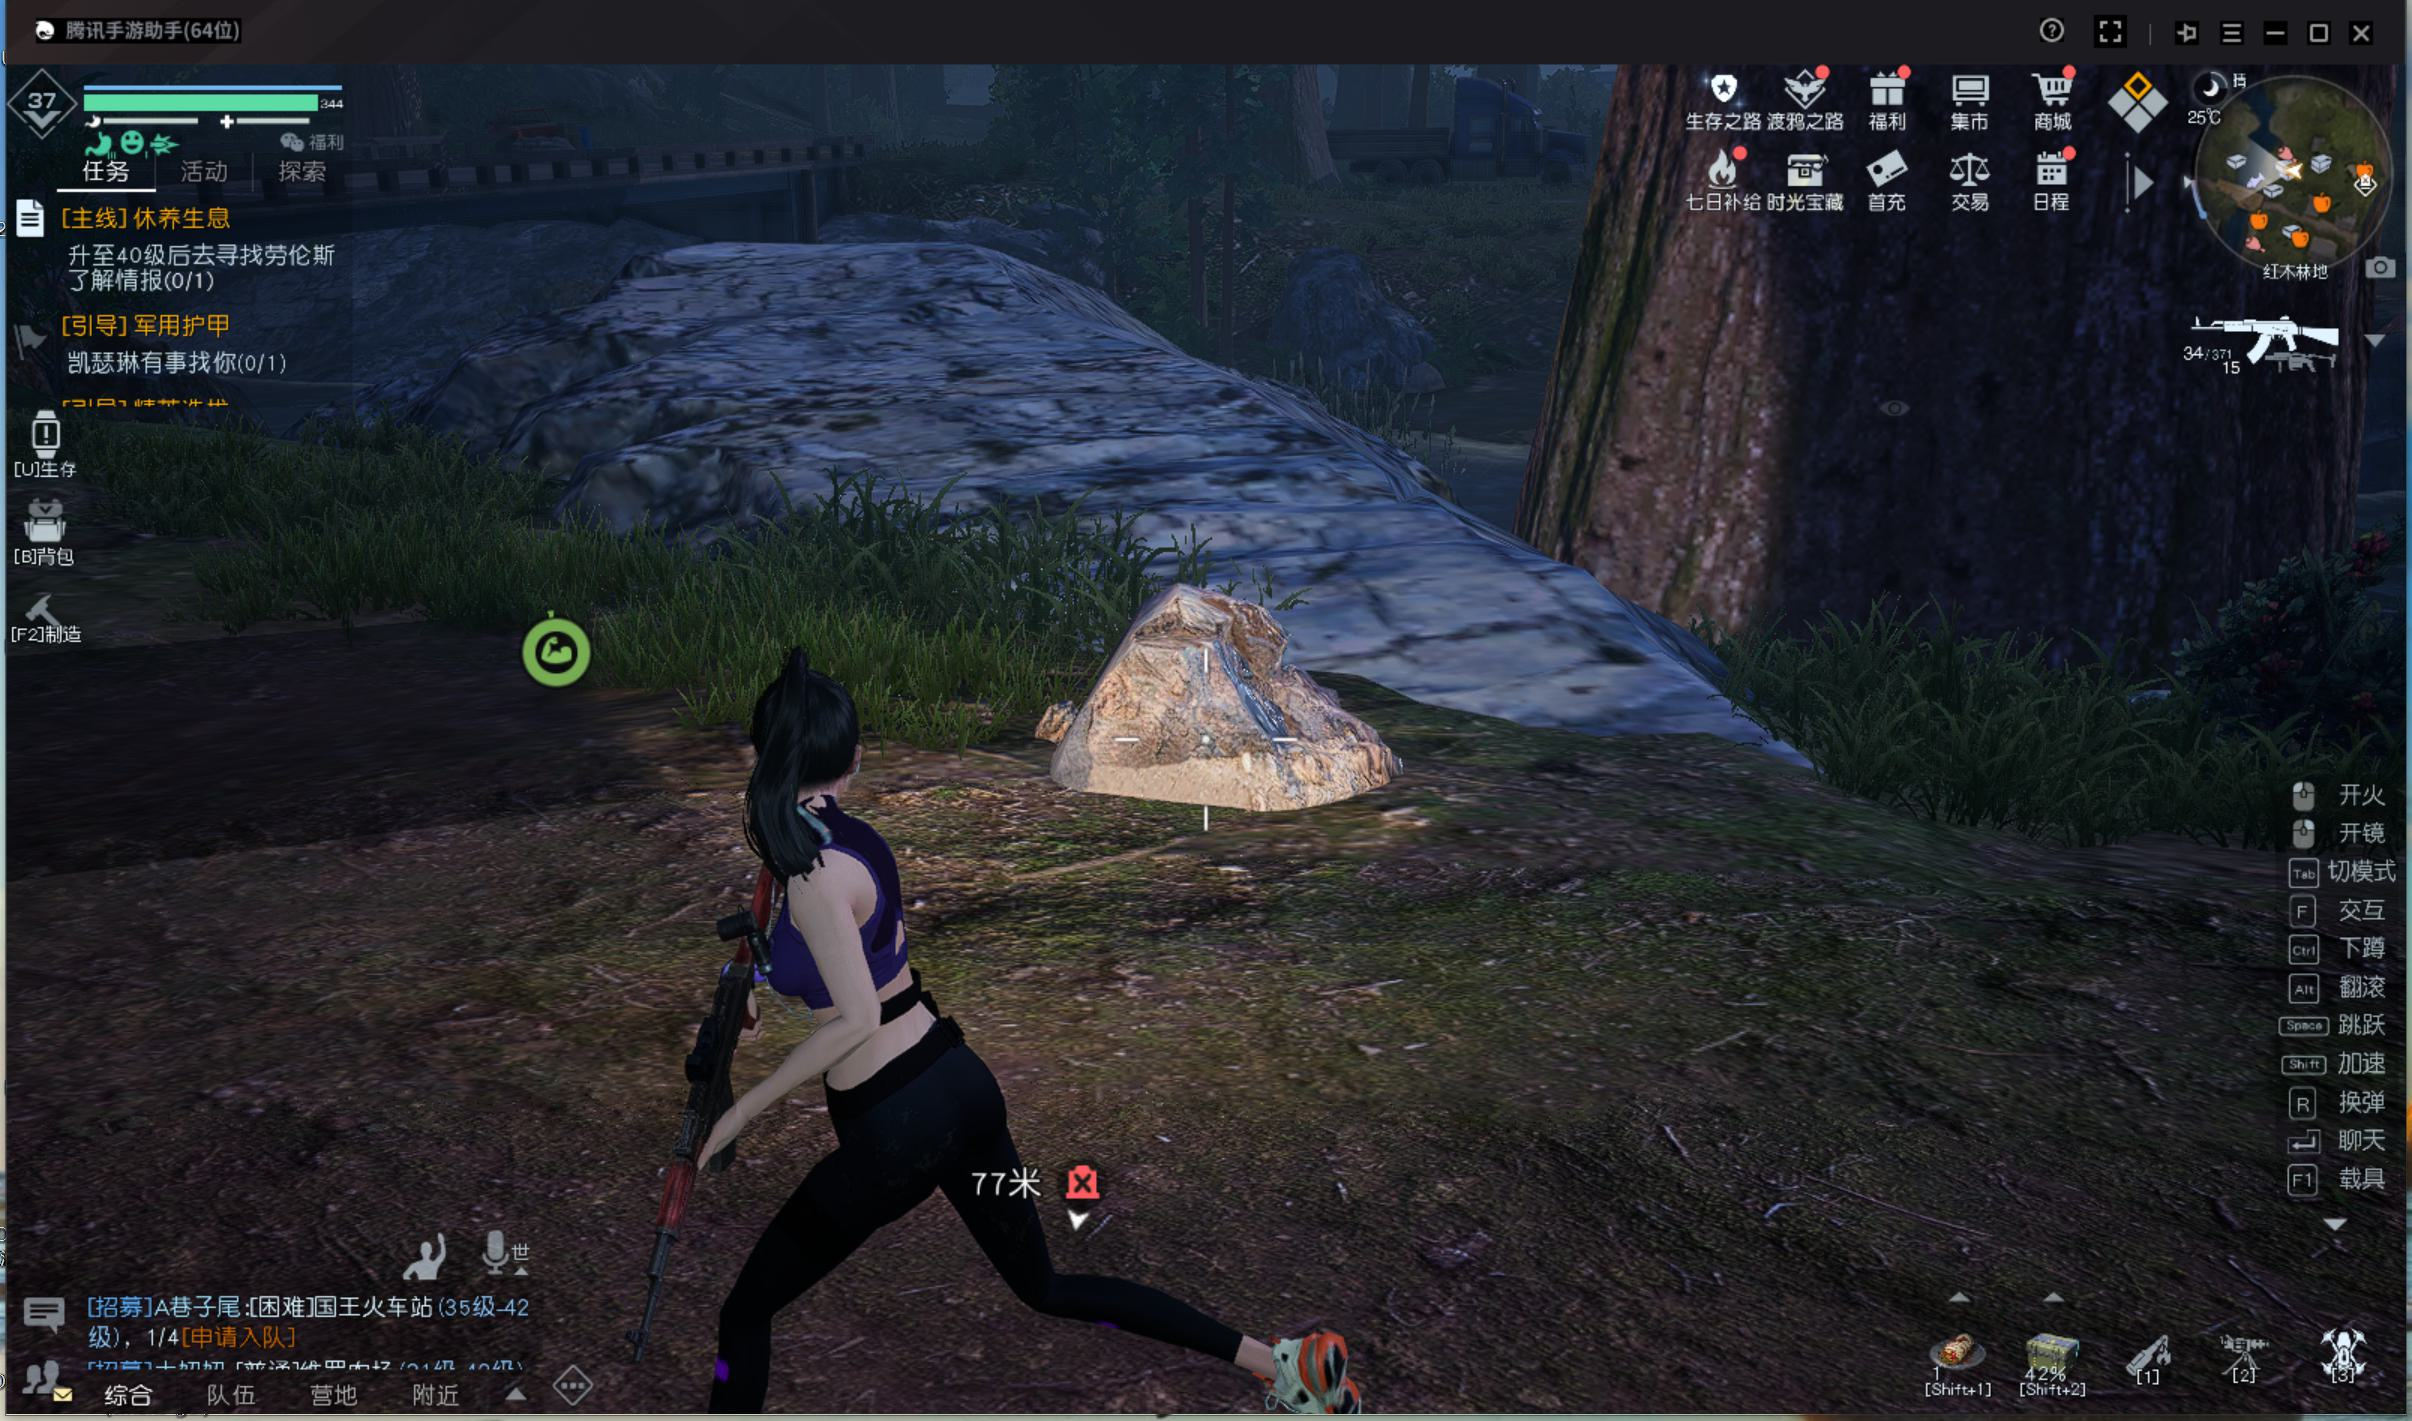stone: (1027, 579, 1407, 841)
